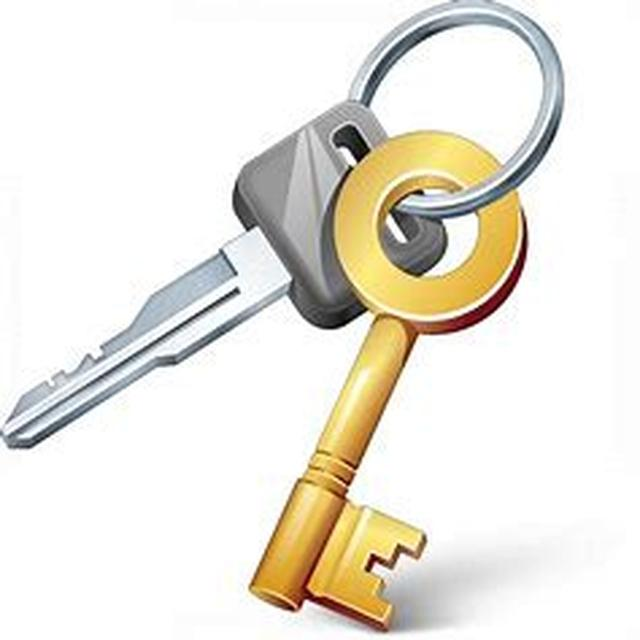key: (6, 18, 564, 625)
